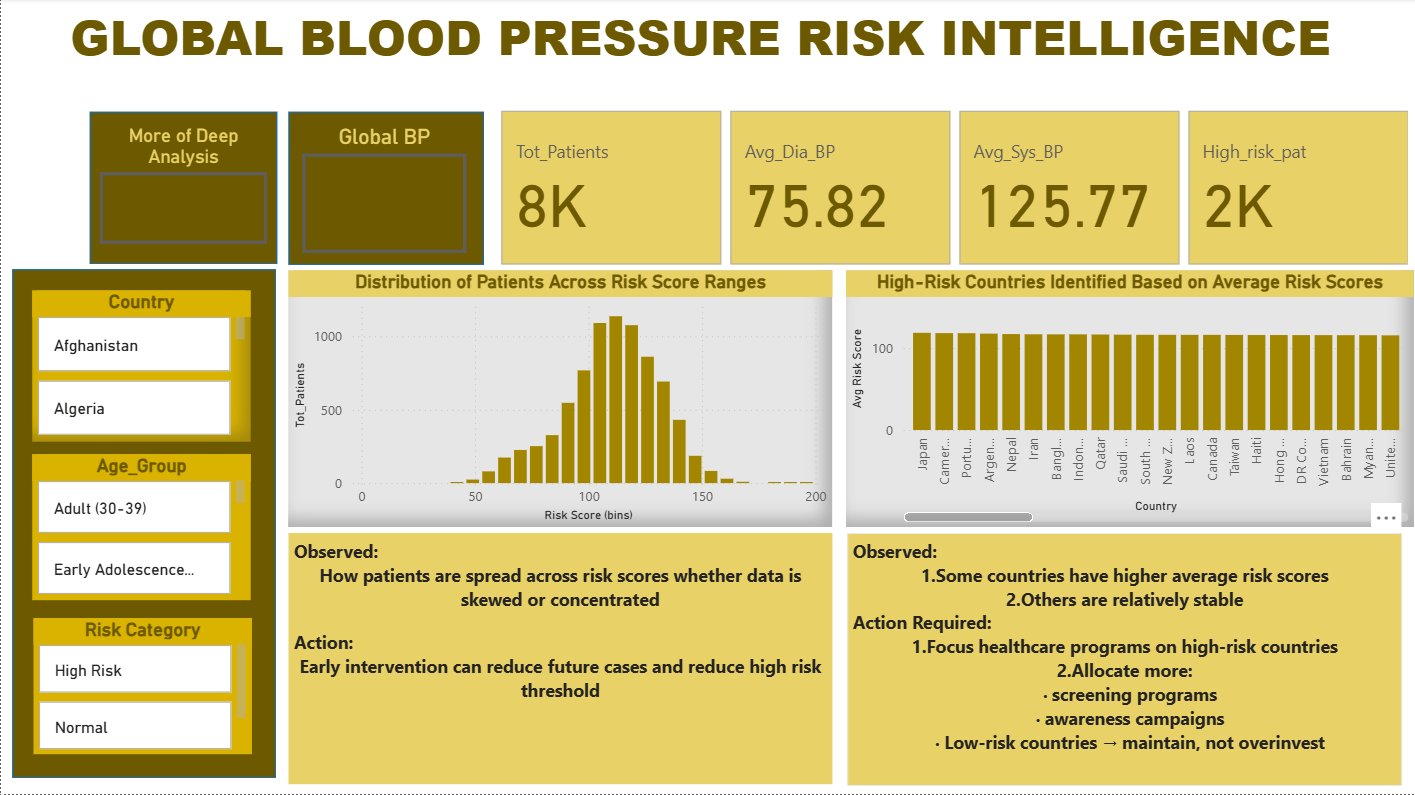

Layout of this report page (visuals, bound fields, positions):
{"tool":"powerbi","page":{"name":"Deep Analysis","canvas":[1280,720],"ordinal":1},"visuals":[{"type":"textbox","box":[0,0,1280,77.5],"z":0},{"type":"shape","box":[10.1,96.3,238.6,609.5],"z":1000},{"type":"advancedSlicerVisual","fields":{"Values":["blood_pressure_global_dataset.Country"]},"box":[29.9,113.4,196.8,186.1],"z":2000},{"type":"advancedSlicerVisual","fields":{"Values":["blood_pressure_global_dataset.Age_Group"]},"box":[29.9,308,196.8,181.8],"z":3000},{"type":"advancedSlicerVisual","fields":{"Values":["blood_pressure_global_dataset.Risk Category"]},"box":[29.9,511.2,196.8,173.3],"z":4000},{"type":"cardVisual","fields":{"Data":["blood_pressure_global_dataset.Tot_Patients","blood_pressure_global_dataset.Avg_Dia_BP","blood_pressure_global_dataset.Avg_Sys_BP","blood_pressure_global_dataset.High_risk_pat"]},"box":[447.7,96.9,830.8,149.2],"z":5000},{"type":"columnChart","fields":{"Y":["blood_pressure_global_dataset.Tot_Patients"],"Category":["blood_pressure_global_dataset.Risk Score"]},"box":[260,246.2,492.3,232.3],"z":6000},{"type":"barChart","fields":{"Category":["blood_pressure_global_dataset.Country"],"Y":["blood_pressure_global_dataset.Avg Risk Score"]},"box":[260,489.2,492.3,216.9],"z":7000},{"type":"clusteredColumnChart","fields":{"Category":["blood_pressure_global_dataset.Country"],"Y":["blood_pressure_global_dataset.Average_Risk_Score"]},"box":[764.6,246.2,513.8,232.3],"z":8000},{"type":"lineChart","fields":{"Category":["blood_pressure_global_dataset.Age_Group"],"Y":["blood_pressure_global_dataset.Avg Risk Score"]},"box":[764.6,489.2,513.8,216.9],"z":9000},{"type":"shape","box":[260,103.1,176.9,138.5],"z":10000},{"type":"actionButton","title":"Global BP","box":[300,138.9,100,67.8],"z":11000}]}

Visuals, with their boxes in screenshot pixels (x1, y1, x2, y2), scaled from the page's 1280x720 canvas onto the 1415x795 screenshot:
textbox: x1=0, y1=0, x2=1414, y2=86
shape: x1=11, y1=106, x2=275, y2=779
advancedSlicerVisual - blood_pressure_global_dataset.Country: x1=33, y1=125, x2=251, y2=331
advancedSlicerVisual - blood_pressure_global_dataset.Age_Group: x1=33, y1=340, x2=251, y2=541
advancedSlicerVisual - blood_pressure_global_dataset.Risk Category: x1=33, y1=564, x2=251, y2=756
cardVisual - blood_pressure_global_dataset.Tot_Patients x blood_pressure_global_dataset.Avg_Dia_BP: x1=495, y1=107, x2=1413, y2=272
columnChart - blood_pressure_global_dataset.Tot_Patients x blood_pressure_global_dataset.Risk Score: x1=287, y1=272, x2=832, y2=528
barChart - blood_pressure_global_dataset.Country x blood_pressure_global_dataset.Avg Risk Score: x1=287, y1=540, x2=832, y2=780
clusteredColumnChart - blood_pressure_global_dataset.Country x blood_pressure_global_dataset.Average_Risk_Score: x1=845, y1=272, x2=1413, y2=528
lineChart - blood_pressure_global_dataset.Age_Group x blood_pressure_global_dataset.Avg Risk Score: x1=845, y1=540, x2=1413, y2=780
shape: x1=287, y1=114, x2=483, y2=267
"Global BP" actionButton: x1=332, y1=153, x2=442, y2=228
